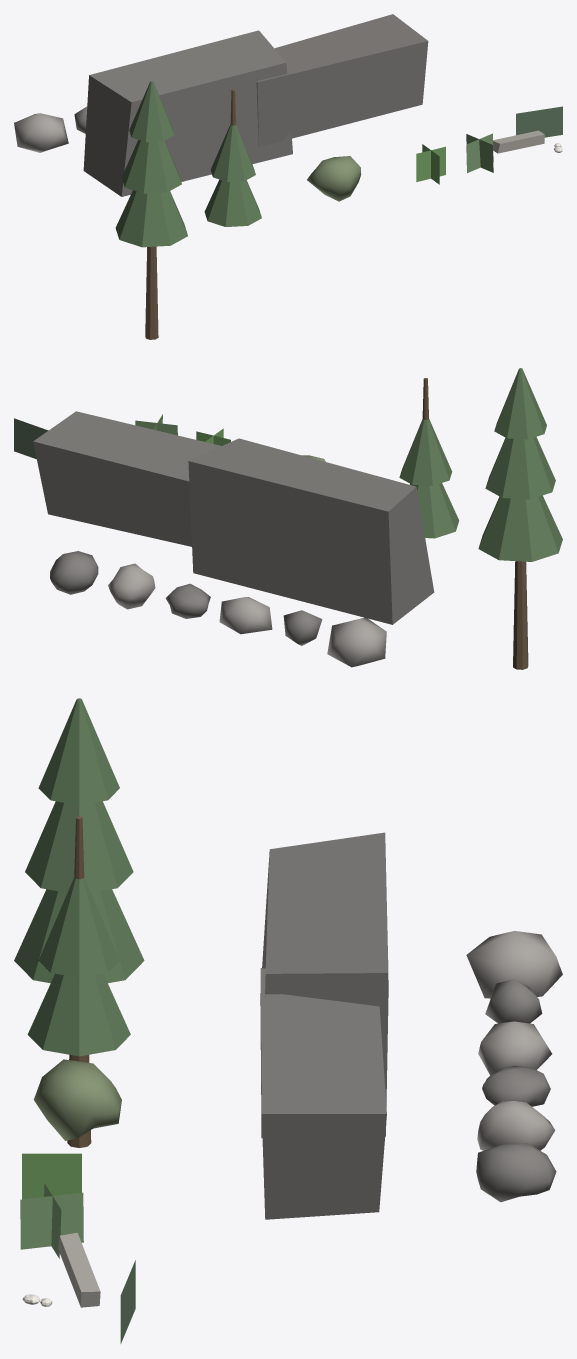
File: LL_NatureKit.fbx
3 renders of one model, top to bottom at view 1: azimuth 30°, elevation 25°; view 2: azimuth 150°, elevation 25°; view 3: azimuth 270°, elevation 25°, orthographic. The views are drawn at different scales.
Parts seen in each view (by area): view 1: LL_Cliff_01, LL_Cliff_02, LL_Pine_Tall_Leaf0, LL_Pine_Tall_Leaf1, LL_Pine_Short_Leaf0, LL_Scrub, LL_Rock_01, LL_Pine_Tall_Leaf2, LL_Pine_Short_Leaf1, LL_Seaweed, LL_Pine_Tall_Trunk, LL_Driftwood (+3 smaller); view 2: LL_Cliff_01, LL_Cliff_02, LL_Pine_Tall_Leaf0, LL_Pine_Tall_Leaf1, LL_Rock_01, LL_Pine_Tall_Leaf2, LL_Pine_Short_Leaf1, LL_Pine_Short_Leaf0, LL_Rock_06, LL_Rock_03, LL_Rock_05, LL_Pine_Tall_Trunk (+3 smaller); view 3: LL_Cliff_02, LL_Cliff_01, LL_Pine_Tall_Leaf1, LL_Pine_Short_Leaf0, LL_Scrub, LL_Pine_Tall_Leaf2, LL_Pine_Short_Leaf1, LL_Pine_Tall_Leaf0, LL_Rock_01, LL_Rock_06, LL_Rock_05, LL_Rock_03 (+6 smaller).
Boxes of the visible parts, left/top/right/bottom form: LL_Cliff_01: left=83, top=30, right=292, bottom=196; LL_Cliff_02: left=256, top=14, right=428, bottom=146; LL_Pine_Tall_Leaf0: left=115, top=190, right=187, bottom=247; LL_Pine_Tall_Leaf1: left=121, top=140, right=181, bottom=193; LL_Pine_Short_Leaf0: left=204, top=179, right=261, bottom=226; LL_Scrub: left=307, top=156, right=361, bottom=201; LL_Rock_01: left=14, top=113, right=68, bottom=152; LL_Pine_Tall_Leaf2: left=129, top=81, right=174, bottom=142; LL_Pine_Short_Leaf1: left=210, top=124, right=255, bottom=181; LL_Seaweed: left=516, top=106, right=562, bottom=137; LL_Pine_Tall_Trunk: left=145, top=246, right=158, bottom=339; LL_Driftwood: left=493, top=130, right=544, bottom=153; LL_Cliff_01: left=188, top=438, right=434, bottom=624; LL_Cliff_02: left=33, top=411, right=221, bottom=546; LL_Pine_Tall_Leaf0: left=478, top=495, right=562, bottom=561; LL_Pine_Tall_Leaf1: left=485, top=437, right=555, bottom=499; LL_Rock_01: left=327, top=617, right=386, bottom=667; LL_Pine_Tall_Leaf2: left=494, top=368, right=546, bottom=439; LL_Pine_Short_Leaf1: left=399, top=419, right=452, bottom=485; LL_Pine_Short_Leaf0: left=410, top=483, right=459, bottom=538; LL_Rock_06: left=50, top=551, right=98, bottom=594; LL_Rock_03: left=219, top=597, right=272, bottom=634; LL_Rock_05: left=108, top=563, right=155, bottom=609; LL_Pine_Tall_Trunk: left=513, top=561, right=528, bottom=669; LL_Cliff_02: left=260, top=968, right=386, bottom=1219; LL_Cliff_01: left=260, top=832, right=388, bottom=1138; LL_Pine_Tall_Leaf1: left=25, top=801, right=133, bottom=892; LL_Pine_Short_Leaf0: left=27, top=973, right=130, bottom=1056; LL_Scrub: left=33, top=1059, right=121, bottom=1140; LL_Pine_Tall_Leaf2: left=38, top=698, right=119, bottom=805; LL_Pine_Short_Leaf1: left=38, top=877, right=119, bottom=977; LL_Pine_Tall_Leaf0: left=14, top=889, right=144, bottom=983; LL_Rock_01: left=466, top=931, right=562, bottom=998; LL_Rock_06: left=476, top=1143, right=556, bottom=1202; LL_Rock_05: left=477, top=1101, right=555, bottom=1150; LL_Rock_03: left=478, top=1021, right=552, bottom=1075.
Size of the model in its own units: 16.79 by 9 by 10.09.
